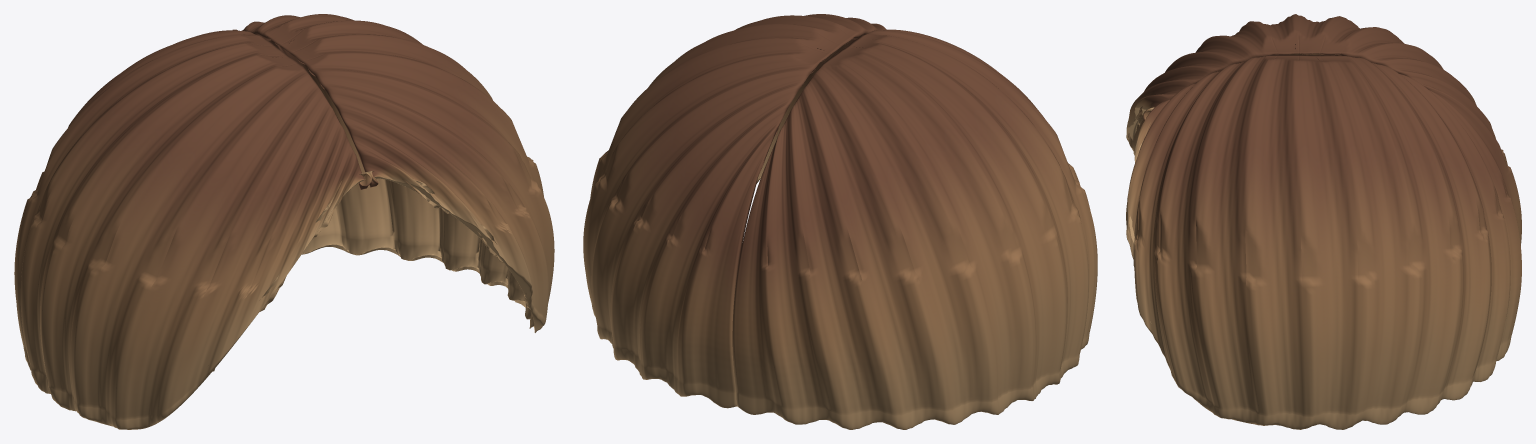
The model's file is Ombre-a0681f1f4abd253-hair.glb.
The picture shows the model from 3 angles, left to right: view 1: azimuth 30°, elevation 25°; view 2: azimuth 150°, elevation 25°; view 3: azimuth 270°, elevation 25°; orthographic projection. The views are drawn at different scales.
Parts seen in each view (by area): view 1: 226 hair / Hair252 / flowing sculpt middle.001; view 2: 226 hair / Hair252 / flowing sculpt middle.001; view 3: 226 hair / Hair252 / flowing sculpt middle.001.
Part boxes in pixels (<box>): 226 hair / Hair252 / flowing sculpt middle.001: <box>14,14,554,429</box>; 226 hair / Hair252 / flowing sculpt middle.001: <box>583,14,1097,429</box>; 226 hair / Hair252 / flowing sculpt middle.001: <box>1126,14,1521,429</box>.
Bounding box in the file's own units: 1.06 × 0.6585 × 0.8284.
1 material, 1 textured.
